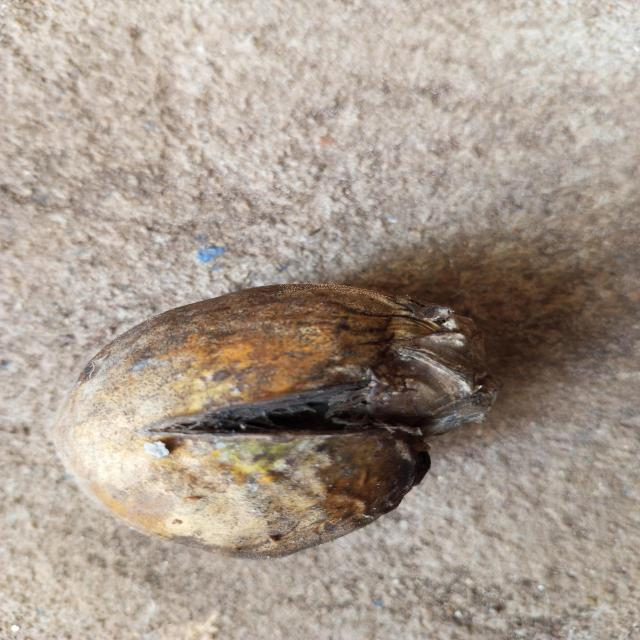damaged: (54, 284, 498, 559)
